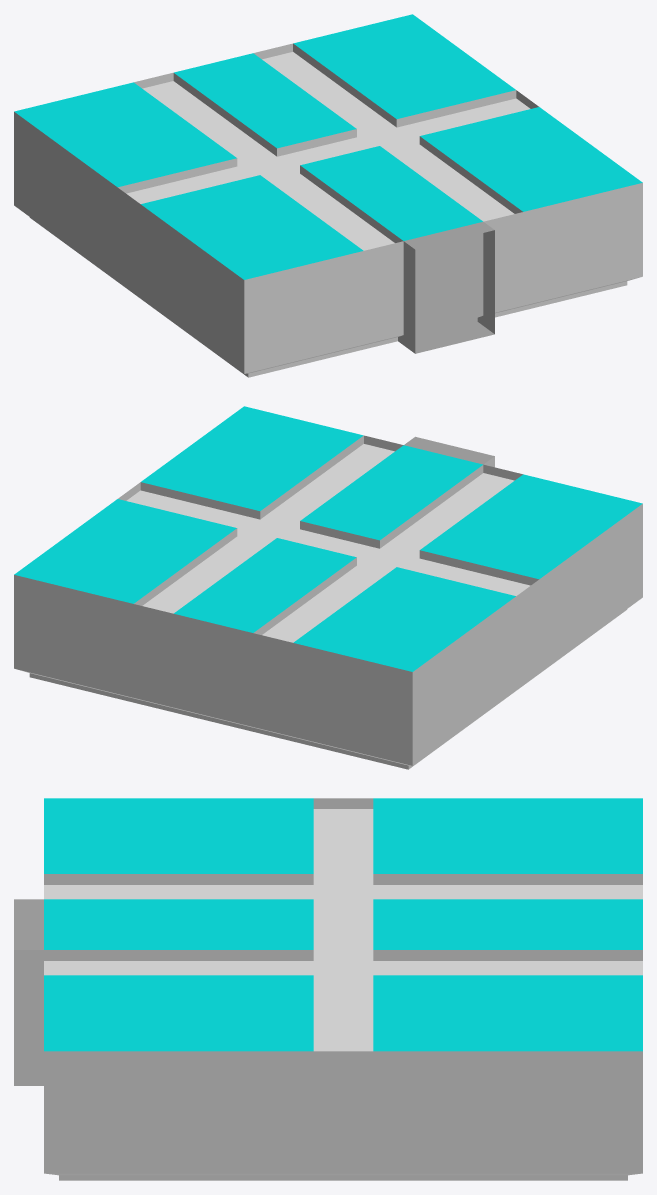
Rendered from Memory&Colony.fbx.
The picture shows the model from 3 angles, top to bottom: view 1: azimuth 30°, elevation 25°; view 2: azimuth 150°, elevation 25°; view 3: azimuth 270°, elevation 25°; orthographic projection. The views are drawn at different scales.
Visible parts, largest first — view 1: Walls_Ceiling, Window3, Window4, Window2, Window1, Window6, Window5, Floor, DoorwayCeling; view 2: Walls_Ceiling, Window1, Window2, Window4, Window3, Window5, Window6, DoorwayCeling; view 3: Walls_Ceiling, Window2, Window4, Window1, Window3, Window5, Window6, DoorwayCeling.
Boxes of the visible parts, x1=… form: Walls_Ceiling: x1=14, y1=43, x2=642, y2=377; Window3: x1=14, y1=82, x2=236, y2=187; Window4: x1=293, y1=14, x2=515, y2=118; Window2: x1=420, y1=107, x2=642, y2=211; Window1: x1=141, y1=175, x2=363, y2=279; Window6: x1=174, y1=53, x2=356, y2=148; Window5: x1=300, y1=146, x2=482, y2=240; Floor: x1=415, y1=233, x2=494, y2=353; DoorwayCeling: x1=404, y1=221, x2=494, y2=249; Walls_Ceiling: x1=14, y1=435, x2=642, y2=769; Window1: x1=420, y1=474, x2=642, y2=579; Window2: x1=141, y1=406, x2=363, y2=510; Window4: x1=14, y1=499, x2=236, y2=603; Window3: x1=293, y1=567, x2=515, y2=671; Window5: x1=300, y1=445, x2=482, y2=540; Window6: x1=174, y1=538, x2=356, y2=632; DoorwayCeling: x1=404, y1=436, x2=494, y2=464; Walls_Ceiling: x1=14, y1=798, x2=642, y2=1180; Window2: x1=44, y1=975, x2=313, y2=1051; Window4: x1=373, y1=975, x2=642, y2=1051; Window1: x1=44, y1=798, x2=313, y2=873; Window3: x1=373, y1=798, x2=642, y2=873; Window5: x1=44, y1=899, x2=313, y2=949; Window6: x1=373, y1=899, x2=642, y2=949; DoorwayCeling: x1=14, y1=899, x2=43, y2=949.
Size of the model in its own units: 20 by 5 by 21.
